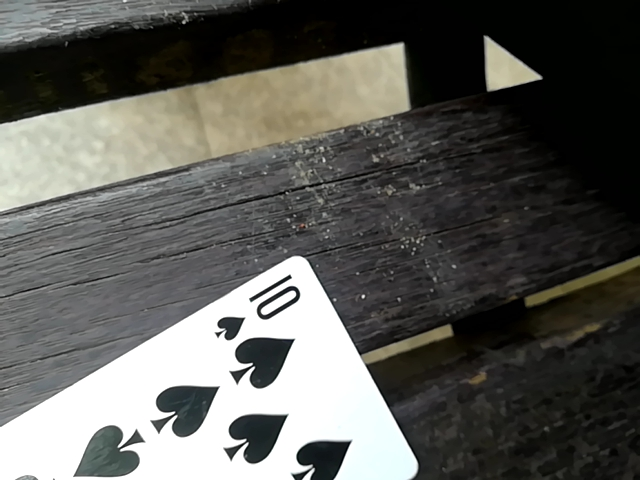ht 10: (0, 260, 434, 476)
